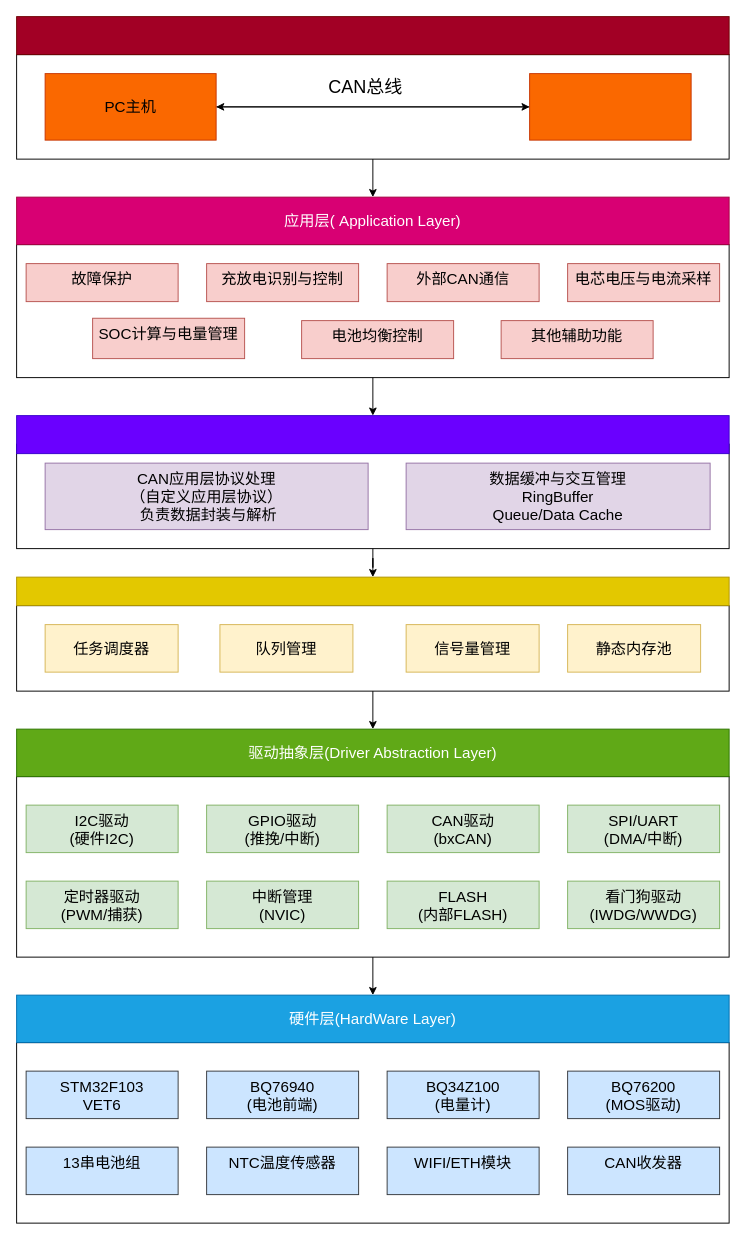
Image size: 746x1240. Some labels were removed from this diagram. The centre of each missing label's shape, as x and y in pixels:
BMS从机: pixel 610 106
中间件与协议栈层: pixel 372 434
外部交互层: pixel 372 35
操作系统层(OS Layer): pixel 372 591
